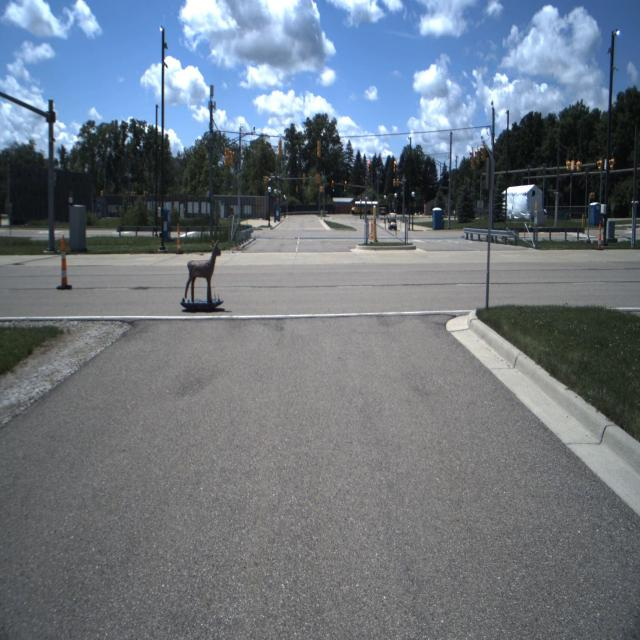Deer: (184, 240, 222, 300)
